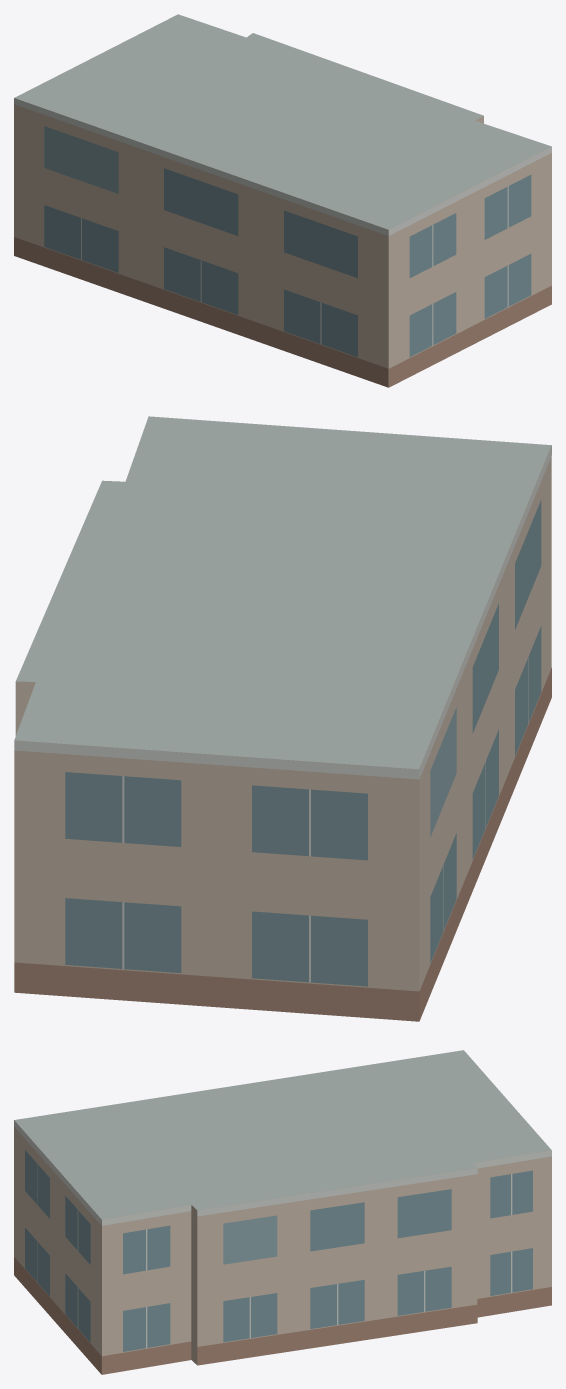
The model's file is survey-upis-32510925.glb.
The picture shows the model from 3 angles, top to bottom: view 1: azimuth 30°, elevation 25°; view 2: azimuth 150°, elevation 25°; view 3: azimuth 270°, elevation 25°; orthographic projection. The views are drawn at different scales.
Visible parts, largest first — view 1: survey-upis-32510925.tmp; view 2: survey-upis-32510925.tmp; view 3: survey-upis-32510925.tmp.
Part boxes in pixels (x1,y1,x2,y2): survey-upis-32510925.tmp: (14,14,551,387); survey-upis-32510925.tmp: (14,416,551,1021); survey-upis-32510925.tmp: (14,1050,551,1374).
Bounding box in the file's own units: 14.31 × 6.1 × 19.17.
